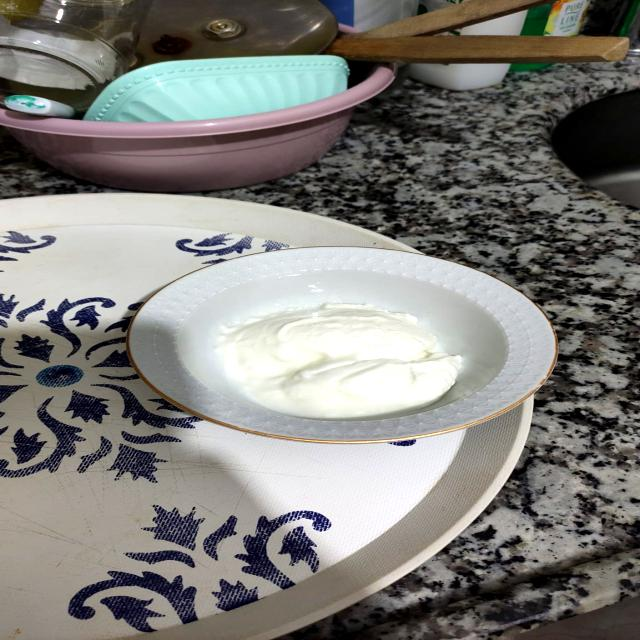yogurt: (150, 244, 540, 450)
